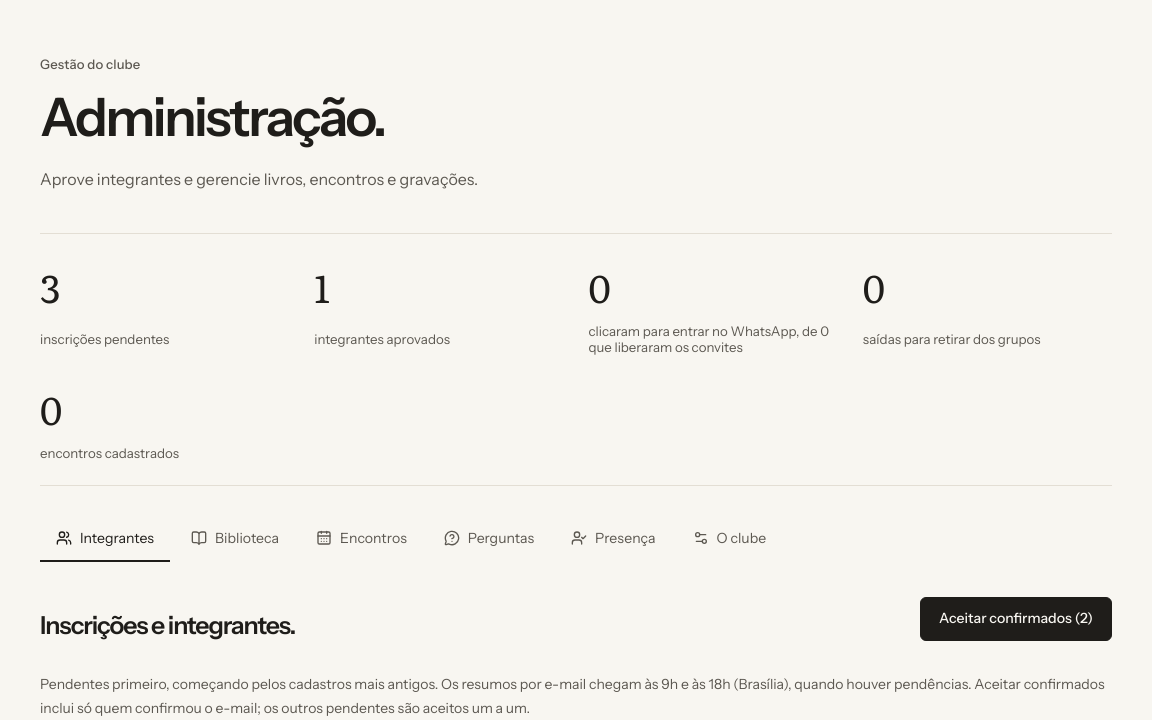
Test: accept confirmed asks for the count and submits only the confirmed pending snapshot
The image size is (1152, 720).
Click the button "Aceitar confirmados (2)".
click(1016, 619)  # box [920, 597, 1112, 641]
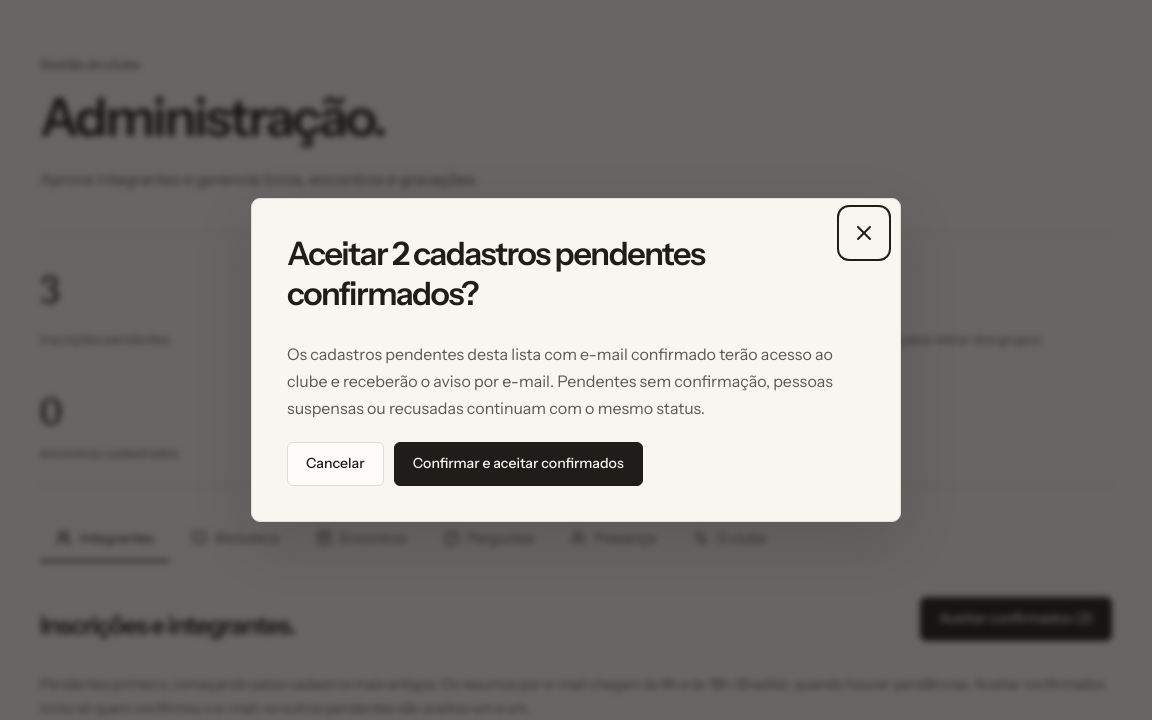
Check: the heading shows "Aceitar 2 cadastros pendentes confirmados", box [287, 234, 704, 313]
Click the button "Confirmar e aceitar confirmados".
click(518, 464)  # box [394, 442, 643, 486]
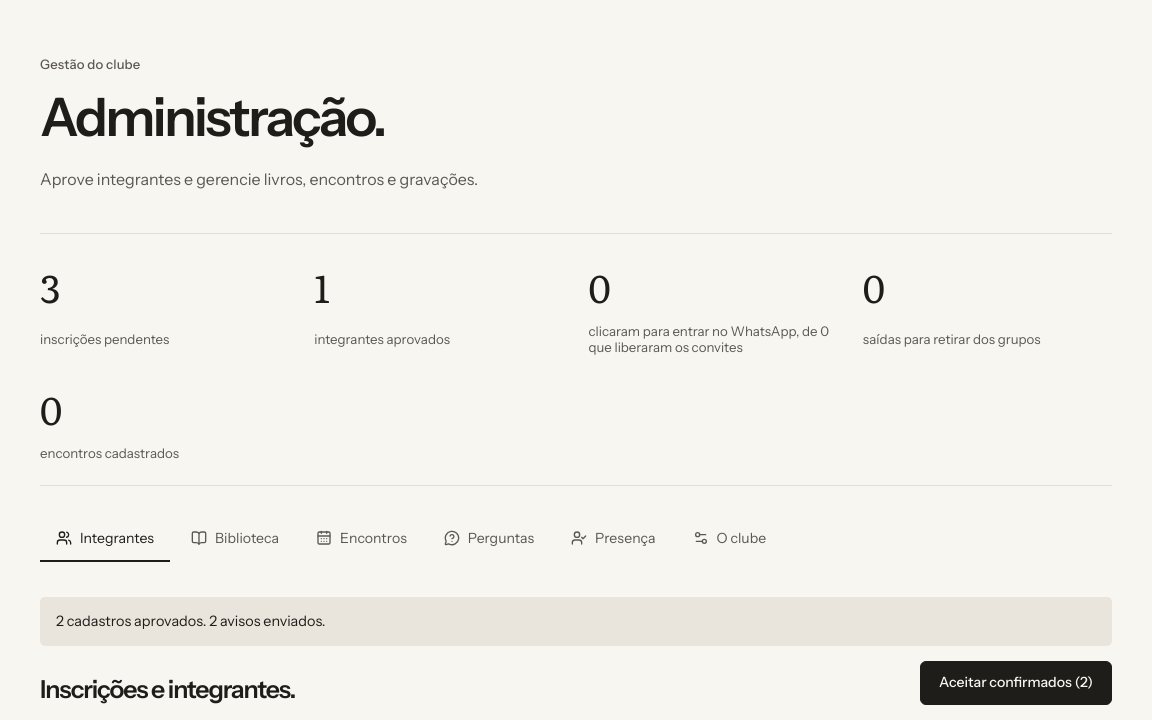
Check: the dialog is gone
Check: the message shows "2 cadastros aprovados", box [56, 612, 326, 630]
